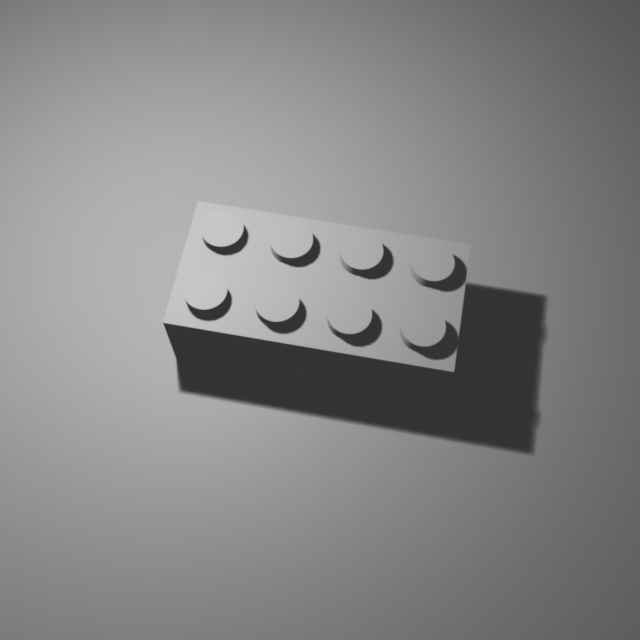lego_2x4: (160, 193, 473, 404)
